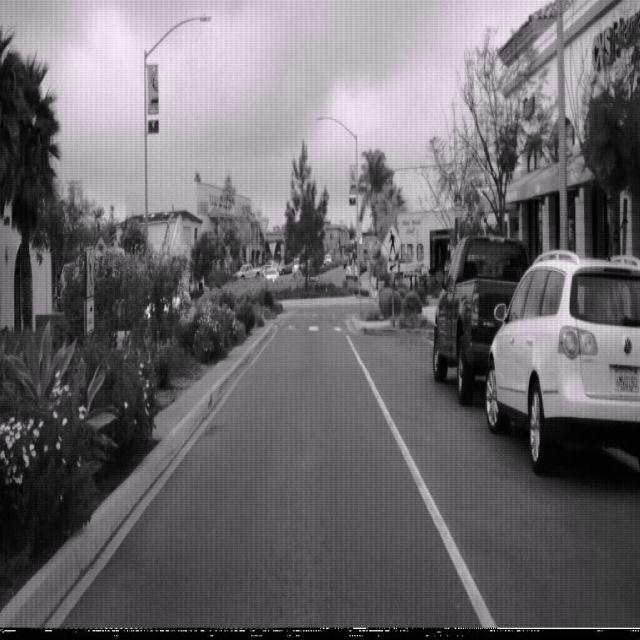pedestrianCrossing: (381, 221, 402, 262)
